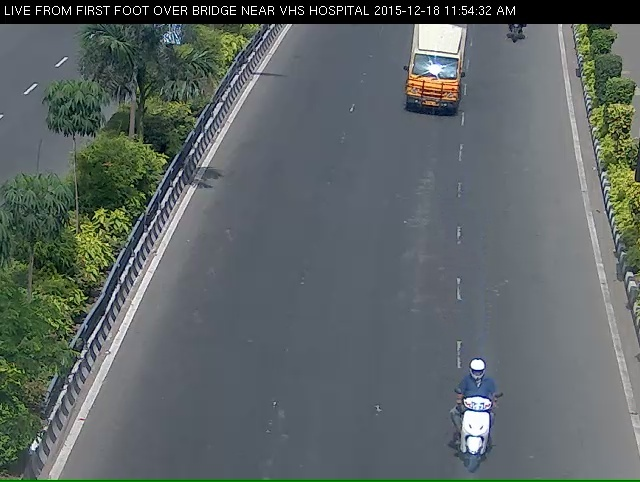Car: (398, 18, 461, 130)
Person: (447, 375, 504, 477), (496, 20, 531, 59)
